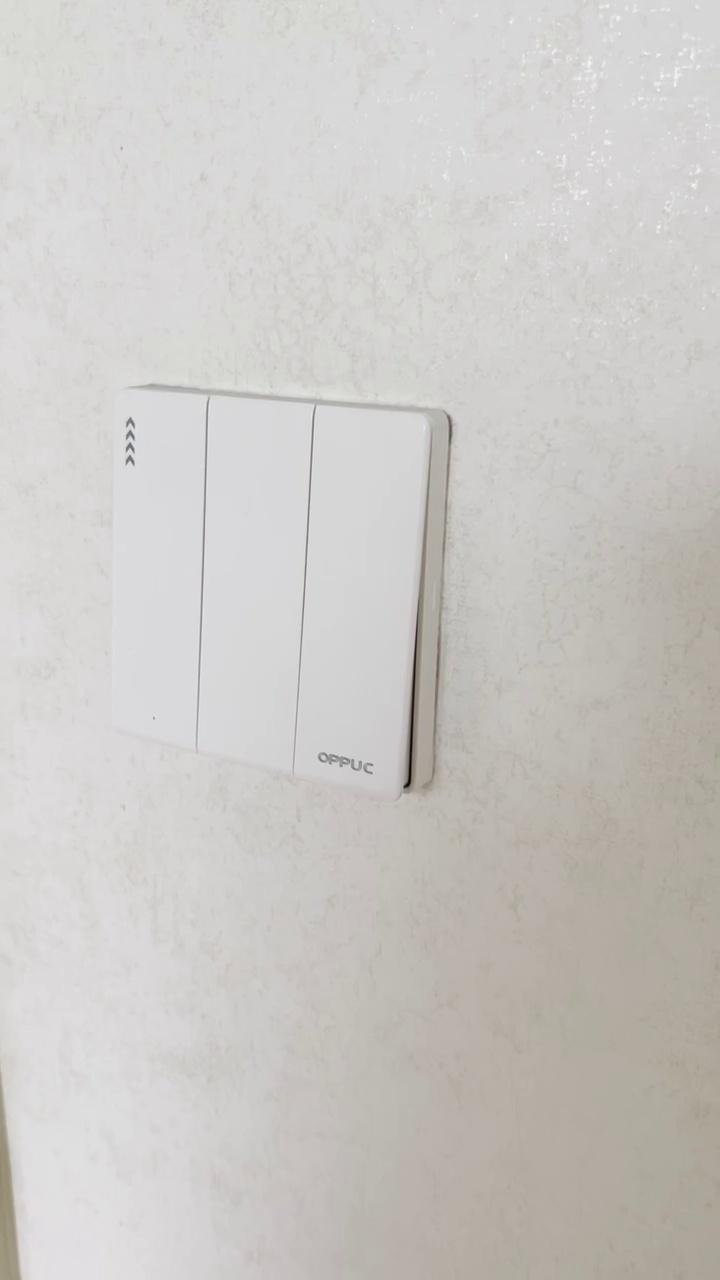button1: (299, 412, 431, 787), (199, 396, 308, 761), (107, 396, 206, 740)
